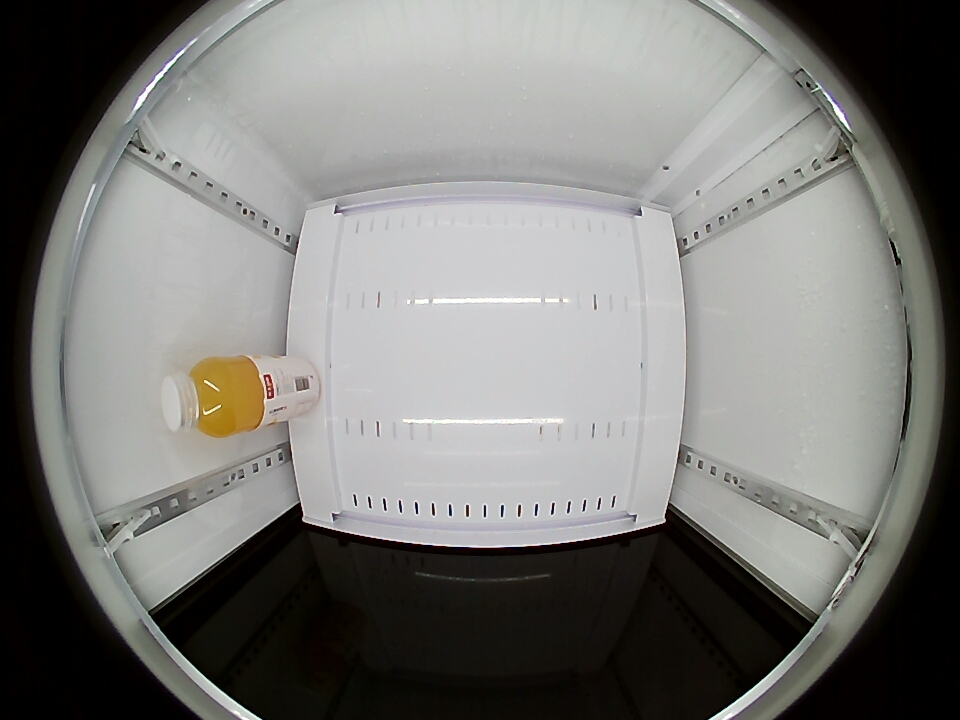weic: (160, 355, 266, 438)
